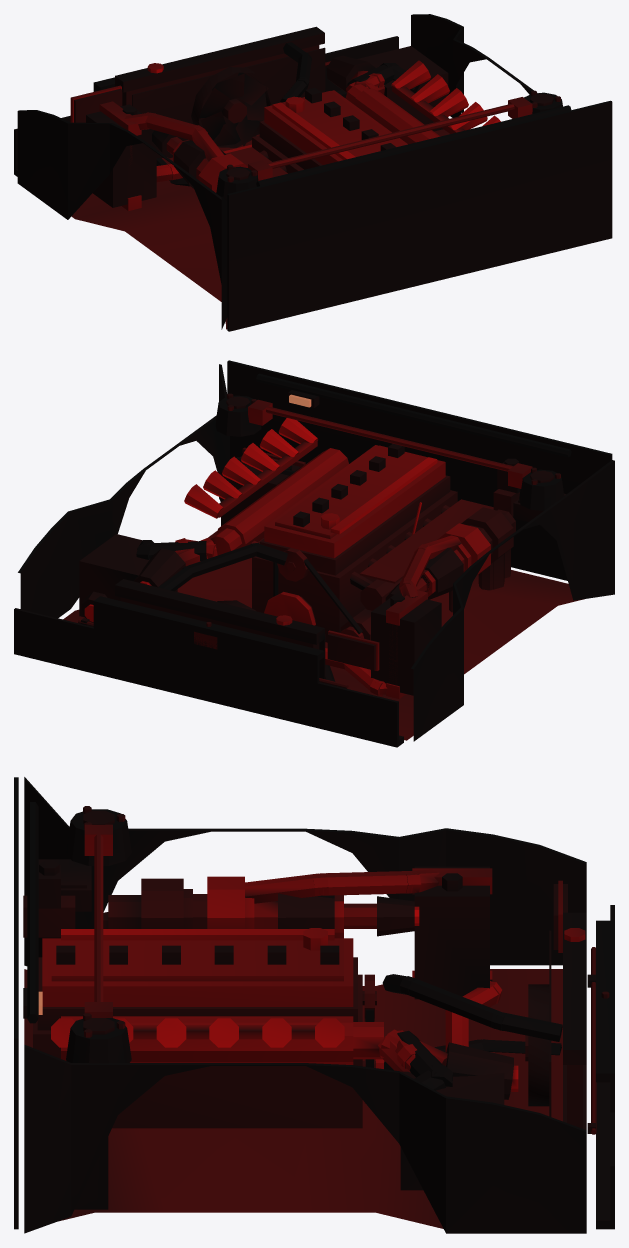
File: bay.glb
3 renders of one model, top to bottom at view 1: azimuth 30°, elevation 25°; view 2: azimuth 150°, elevation 25°; view 3: azimuth 270°, elevation 25°, orthographic. The views are drawn at different scales.
Parts seen in each view (by area): view 1: bay_firewall, bay_wall_l, engine, bay_shroud, bay_floor, bay_radiator, bay_wall_r, bay_washer, bay_mod_itb, bay_mod_strut_bar, bay_airbox, bay_loom (+12 smaller); view 2: engine, bay_rad_support, bay_firewall, bay_wall_l, bay_floor, bay_wall_r, bay_mod_itb, bay_radiator, bay_washer, bay_mod_tb_turbo, bay_airbox, bay_loom (+15 smaller); view 3: engine, bay_wall_r, bay_floor, bay_wall_l, bay_washer, bay_mod_tb_turbo, bay_rad_support, bay_radiator, bay_mod_itb, bay_mod_tt_turbos, bay_hoses, bay_mod_ts_pipe_l (+17 smaller).
Part boxes in pixels (bbox=[...]): bay_firewall: bbox=[227, 100, 612, 331]; bay_wall_l: bbox=[17, 110, 227, 329]; engine: bbox=[225, 84, 440, 177]; bay_shroud: bbox=[132, 47, 325, 158]; bay_floor: bbox=[71, 129, 449, 329]; bay_radiator: bbox=[115, 26, 324, 105]; bay_wall_r: bbox=[411, 14, 611, 117]; bay_washer: bbox=[86, 104, 156, 207]; bay_mod_itb: bbox=[391, 60, 500, 133]; bay_mod_strut_bar: bbox=[248, 97, 532, 180]; bay_airbox: bbox=[347, 46, 448, 131]; bay_loom: bbox=[256, 105, 571, 186]; engine: bbox=[210, 444, 493, 642]; bay_rad_support: bbox=[14, 596, 403, 747]; bay_firewall: bbox=[227, 360, 612, 580]; bay_wall_l: bbox=[411, 460, 614, 741]; bay_floor: bbox=[63, 531, 584, 740]; bay_wall_r: bbox=[18, 364, 229, 618]; bay_mod_itb: bbox=[184, 418, 318, 518]; bay_radiator: bbox=[115, 579, 324, 649]; bay_washer: bbox=[371, 592, 441, 695]; bay_mod_tb_turbo: bbox=[425, 507, 513, 599]; bay_airbox: bbox=[79, 534, 206, 617]; bay_loom: bbox=[256, 373, 571, 457]; engine: bbox=[33, 928, 383, 1128]; bay_wall_r: bbox=[24, 1044, 586, 1233]; bay_floor: bbox=[24, 969, 562, 1228]; bay_wall_l: bbox=[24, 777, 586, 966]; bay_washer: bbox=[414, 866, 489, 999]; bay_mod_tb_turbo: bbox=[141, 876, 334, 928]; bay_rad_support: bbox=[596, 905, 614, 1229]; bay_radiator: bbox=[563, 912, 586, 1129]; bay_mod_itb: bbox=[51, 1018, 344, 1047]; bay_mod_tt_turbos: bbox=[103, 894, 419, 938]; bay_hoses: bbox=[382, 974, 562, 1070]; bay_mod_ts_pipe_l: bbox=[245, 869, 439, 903].
Bounding box in the file's own units: 1.36 × 0.472 × 1.28.
